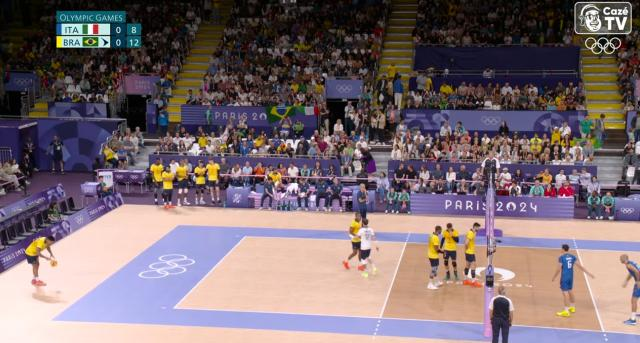Levantador: (554, 246, 578, 314), (442, 224, 458, 276)
Libero: (357, 218, 377, 276)
bola: (50, 261, 56, 267)
